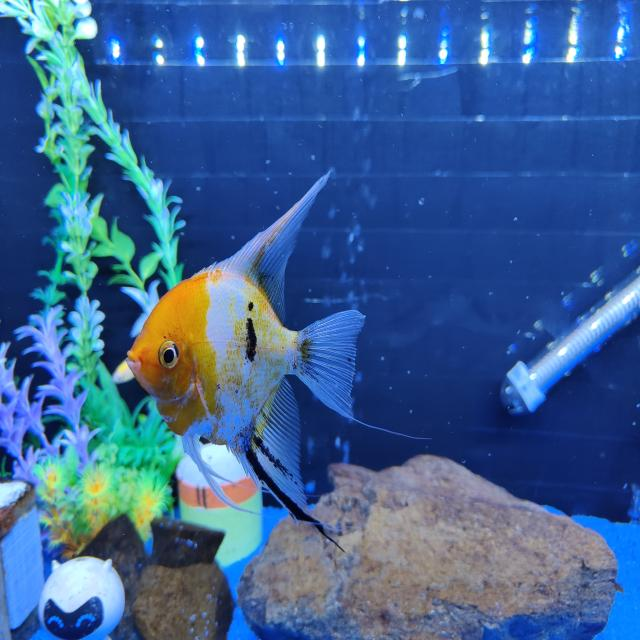Fish: (128, 172, 364, 541)
